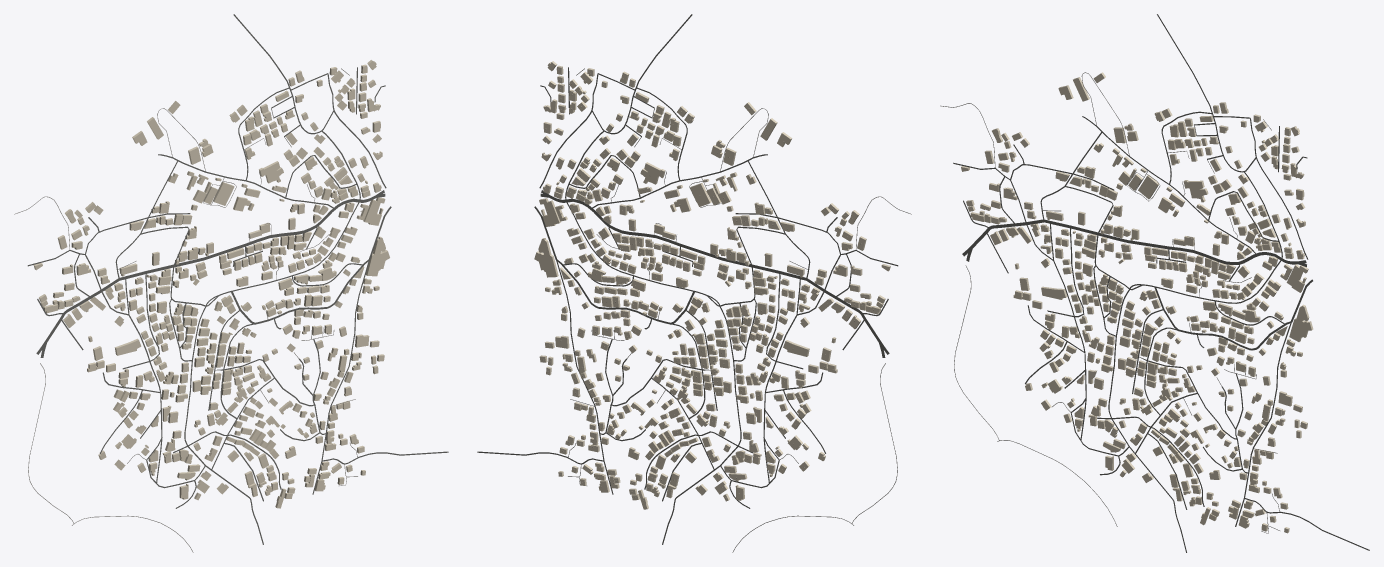
Rendered from historic-palestine-10_24_3516_3189.glb.
The picture shows the model from 3 angles, left to right: view 1: azimuth 30°, elevation 25°; view 2: azimuth 150°, elevation 25°; view 3: azimuth 330°, elevation 25°; orthographic projection.
Parts seen in each view (by area): view 1: Road .028, Road شارع يافا, Building_.013; view 2: Road .028, Road شارع يافا, Building_.013; view 3: Road .028, Road شارع يافا, Building_.013.
Part boxes in pixels (bbox=[...]): Road .028: bbox=[45, 195, 376, 342]; Road شارع يافا: bbox=[231, 206, 391, 324]; Building_.013: bbox=[365, 236, 389, 276]; Road .028: bbox=[549, 195, 880, 342]; Road شارع يافا: bbox=[534, 206, 694, 324]; Building_.013: bbox=[534, 238, 558, 277]; Road .028: bbox=[970, 219, 1298, 264]; Road شارع يافا: bbox=[1154, 279, 1312, 350]; Building_.013: bbox=[1289, 304, 1313, 341].
Size of the model in its own units: 1199 by 1420 by 9.09.
